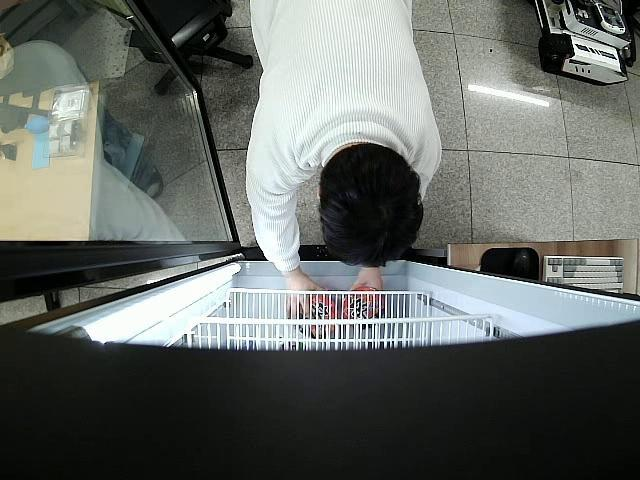01_ShinRamen_L: (295, 290, 340, 338), (342, 286, 383, 328)
